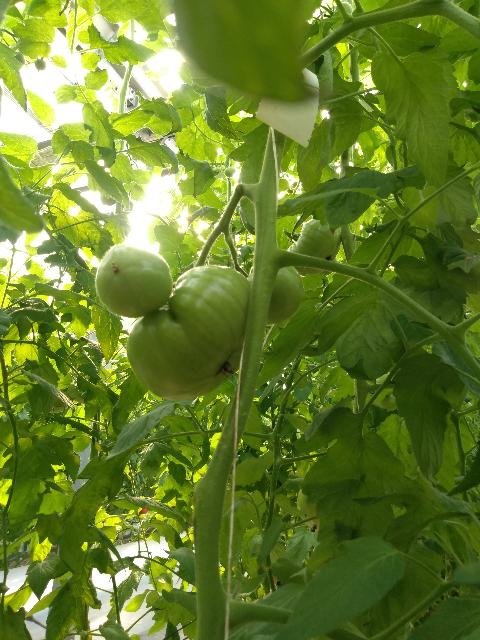b_green: (126, 265, 261, 400), (96, 243, 174, 318), (246, 255, 304, 325), (284, 217, 341, 276)
